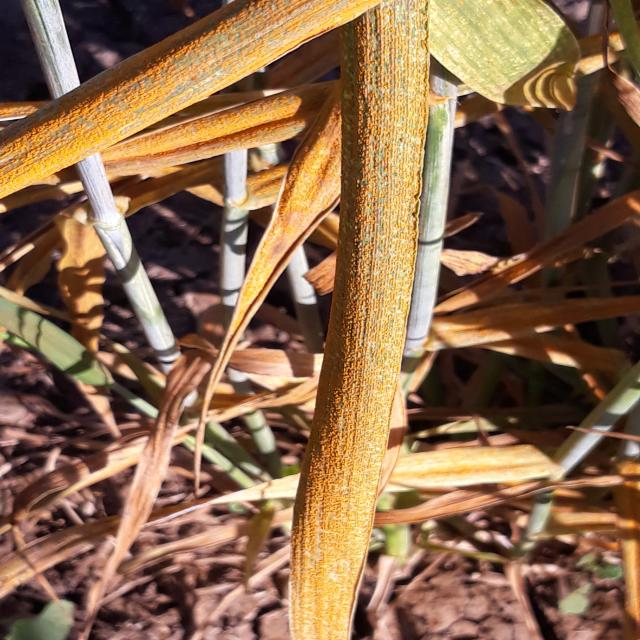yellow_rust: (4, 1, 626, 632)
